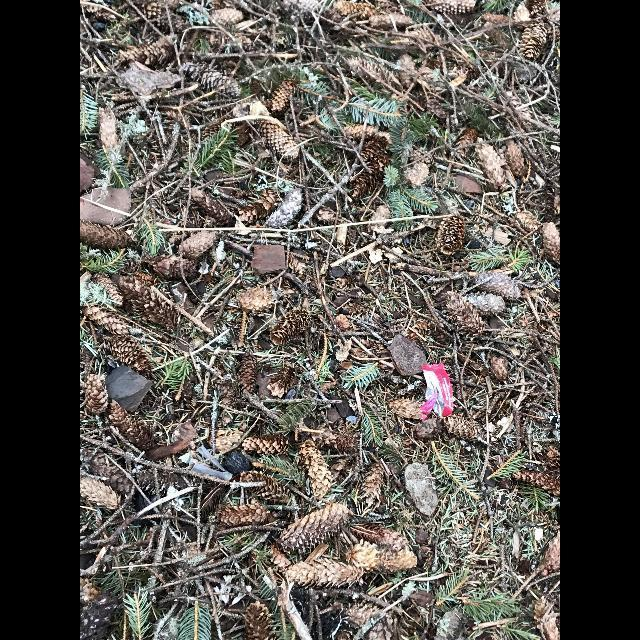Plastic: (419, 363, 453, 422), (192, 445, 232, 481)
